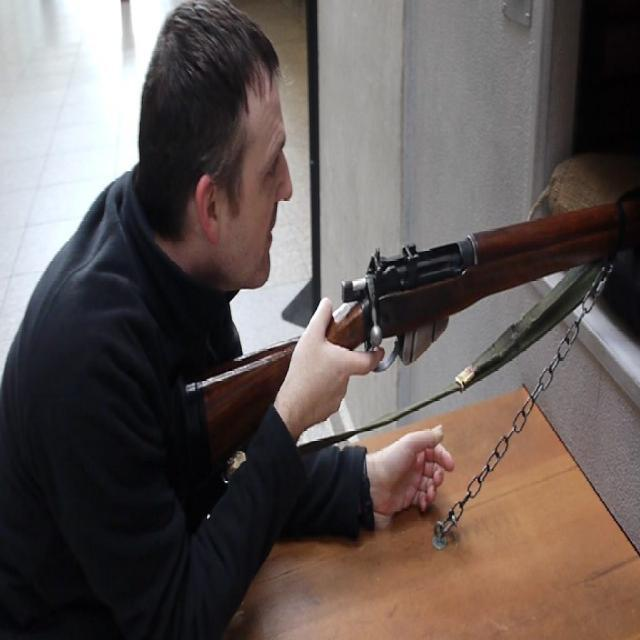weapon: (179, 192, 640, 491)
